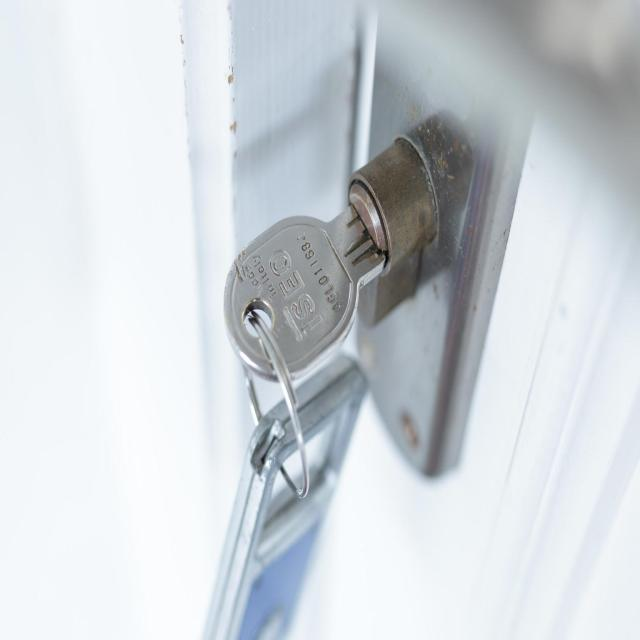Frontdoor keys: (222, 202, 386, 382)
